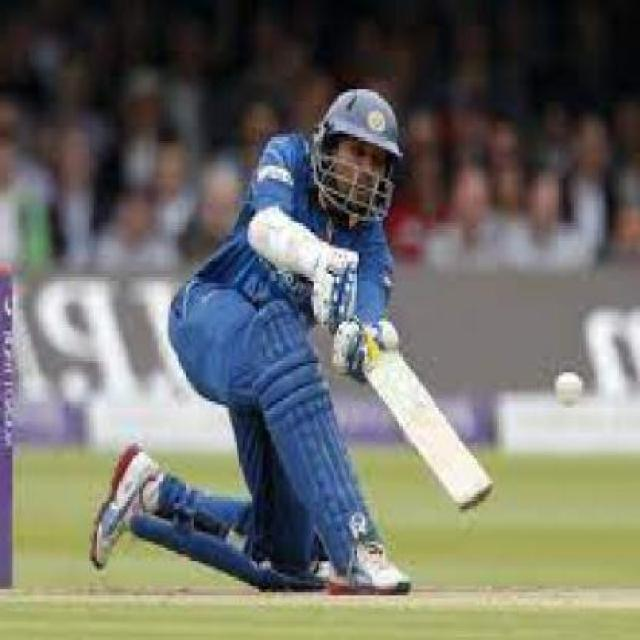ball: (531, 342, 600, 422)
